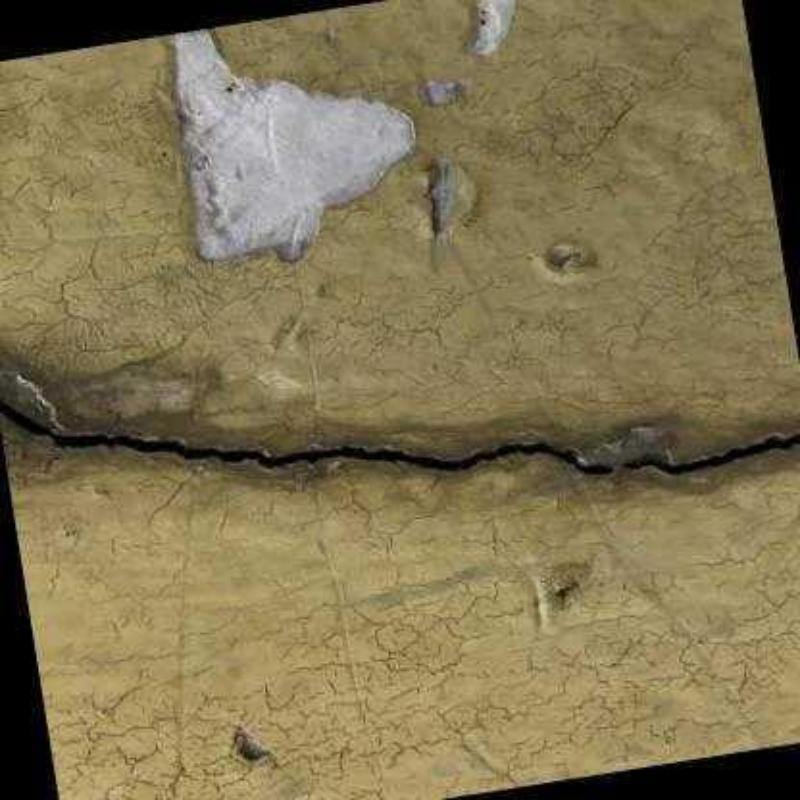pothole: (0, 388, 800, 480)
